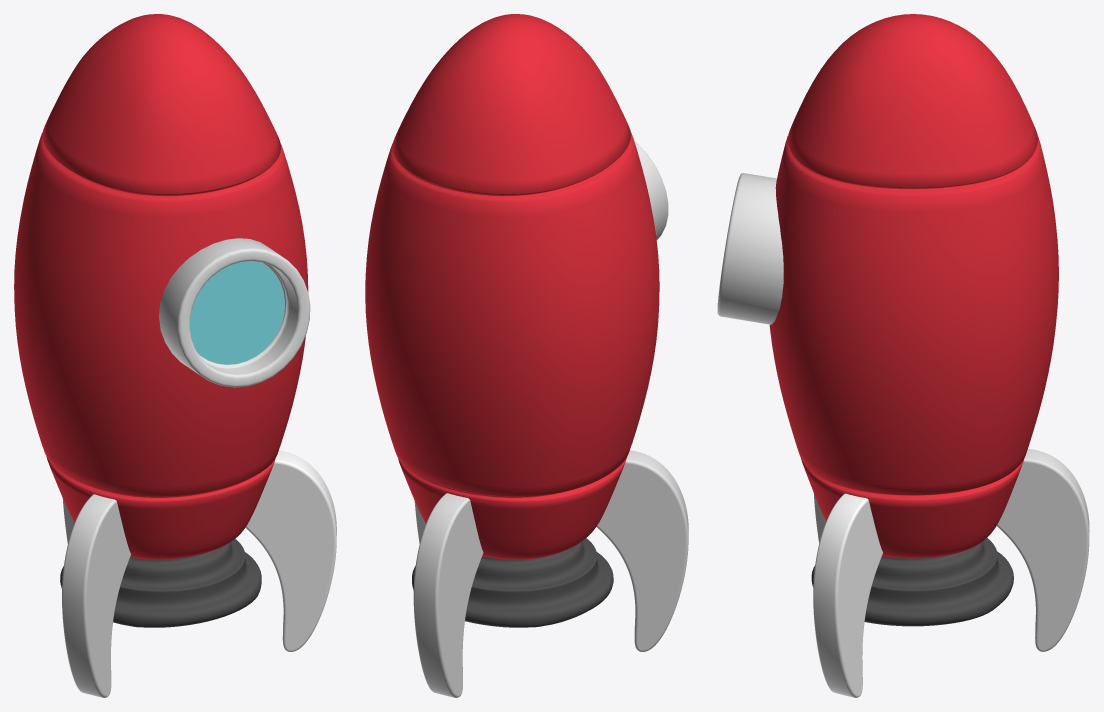
File: Rocket.fbx
3 views of the same model, side by side, from view 1: azimuth 30°, elevation 25°; view 2: azimuth 150°, elevation 25°; view 3: azimuth 270°, elevation 25° (orthographic).
Parts seen in each view (by area): view 1: Cube, Cylinder, BezierCircle.002, BezierCircle.003; view 2: Cube, BezierCircle.003, BezierCircle.001, Cylinder; view 3: Cube, BezierCircle.001, BezierCircle.002, Cylinder.
Boxes of the visible parts, x1,y1,x2,y2 form: Cube: (14,14,308,627); Cylinder: (159,238,310,387); BezierCircle.002: (245,450,336,651); BezierCircle.003: (62,494,131,697); Cube: (365,14,659,627); BezierCircle.003: (596,450,688,651); BezierCircle.001: (413,493,483,697); Cylinder: (634,141,668,239); Cube: (769,14,1058,626); BezierCircle.001: (997,449,1089,651); BezierCircle.002: (813,493,882,697); Cylinder: (717,173,783,324).
Size of the model in its own units: 343 by 747 by 401.
